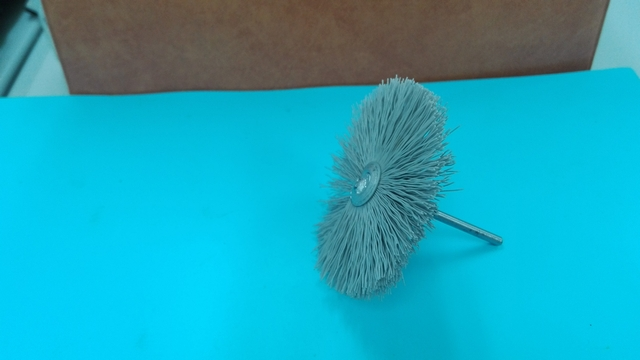TOOL: (269, 58, 570, 320), (209, 87, 478, 324), (325, 70, 534, 292), (304, 77, 502, 309)
